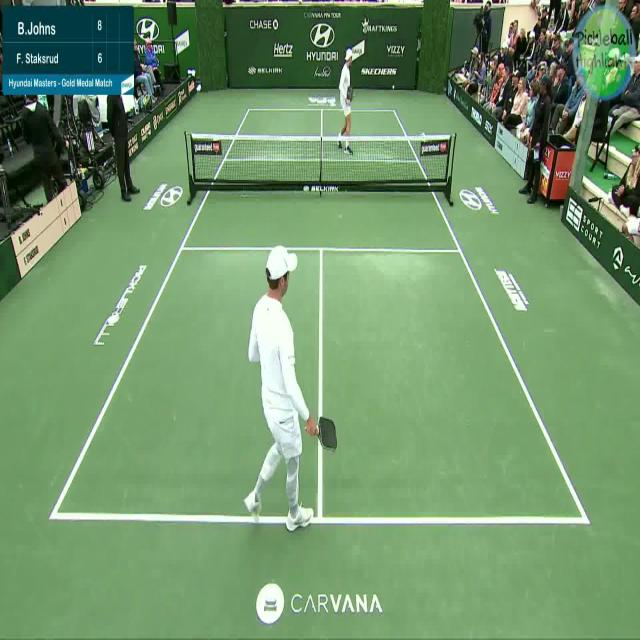Court: (51, 108, 591, 525)
ball: (388, 80, 406, 98)
